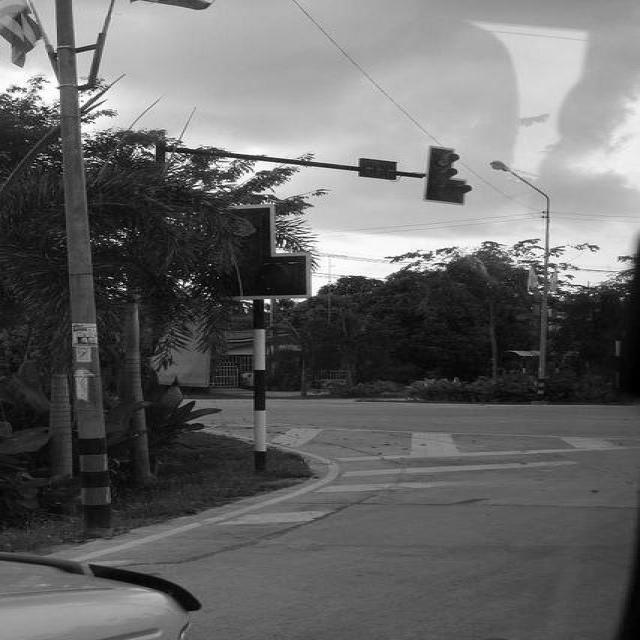vehicle: (0, 552, 202, 640)
